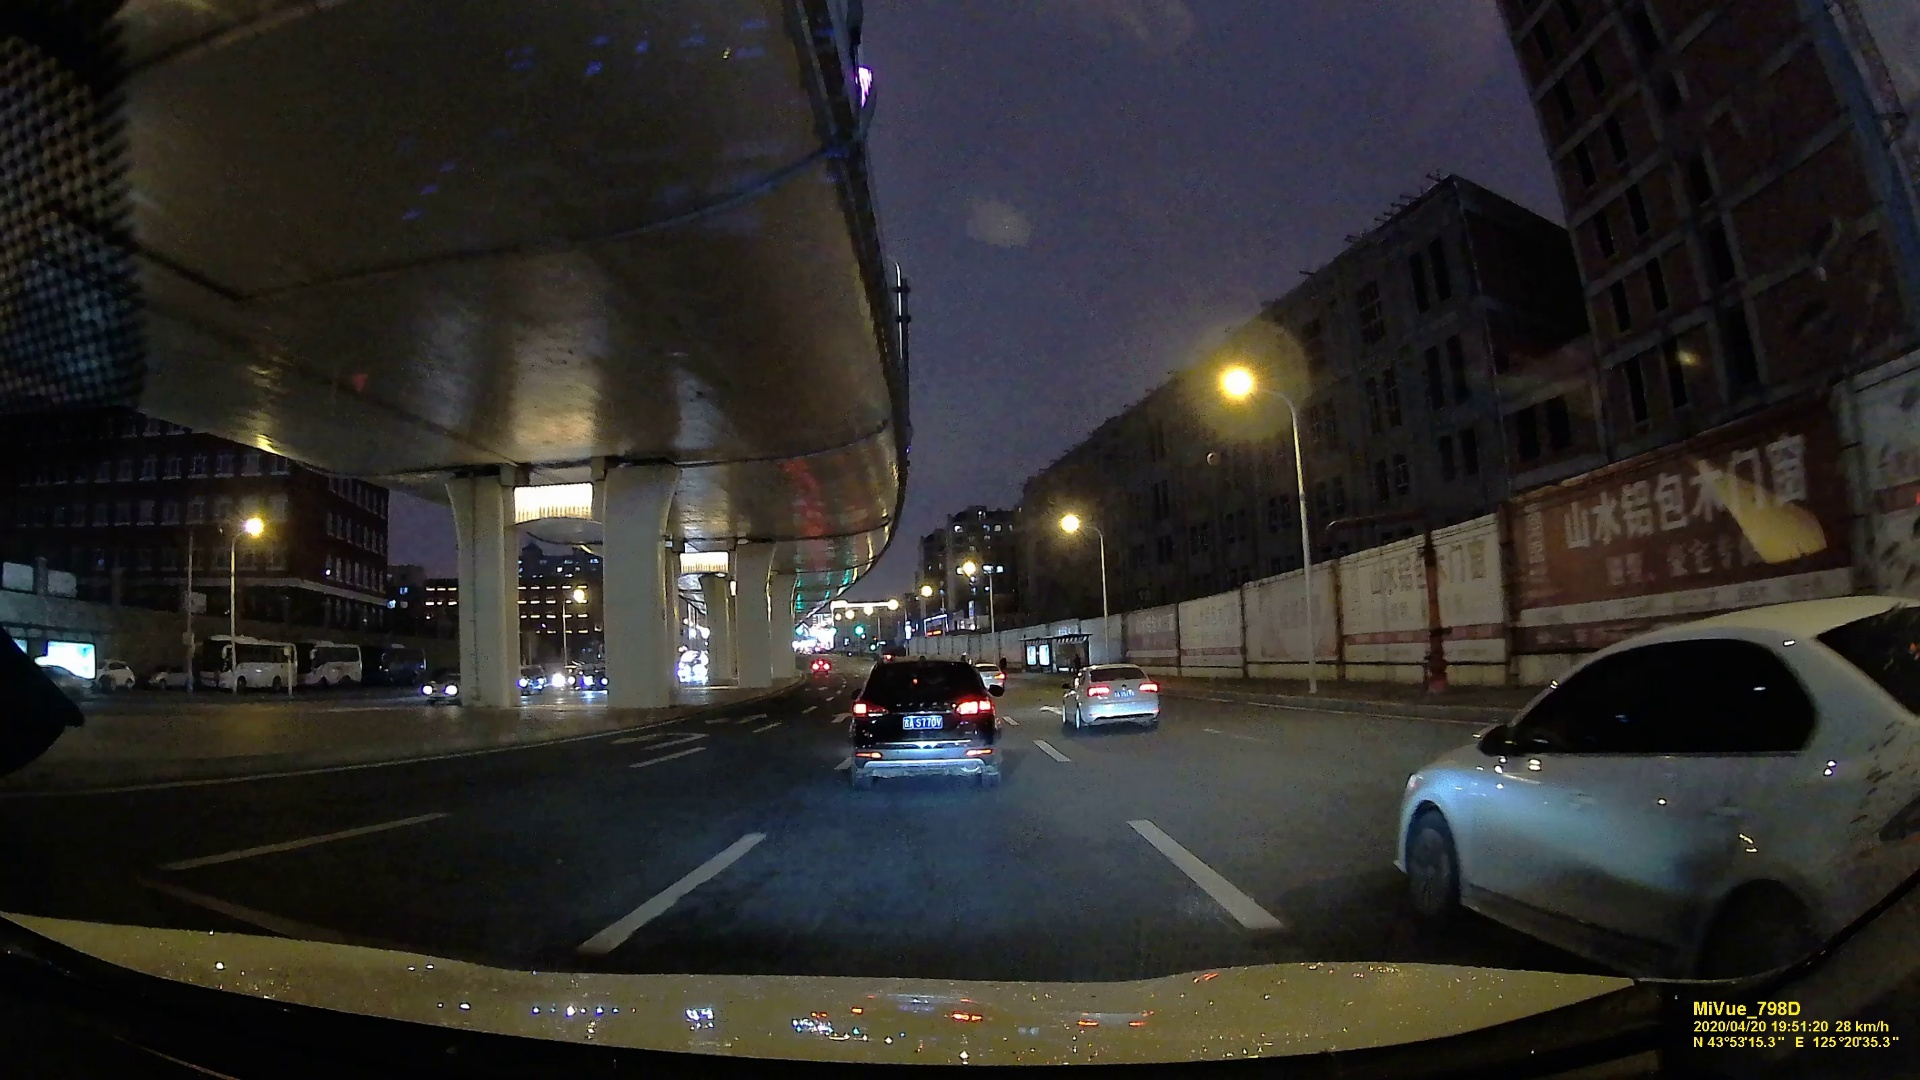bus: (199, 632, 290, 694), (295, 641, 365, 688), (369, 644, 423, 683)
vehicle: (1398, 611, 1920, 945), (849, 655, 1002, 789), (1062, 663, 1156, 729), (419, 671, 462, 702), (517, 663, 547, 692), (554, 666, 582, 688), (811, 659, 831, 673)
